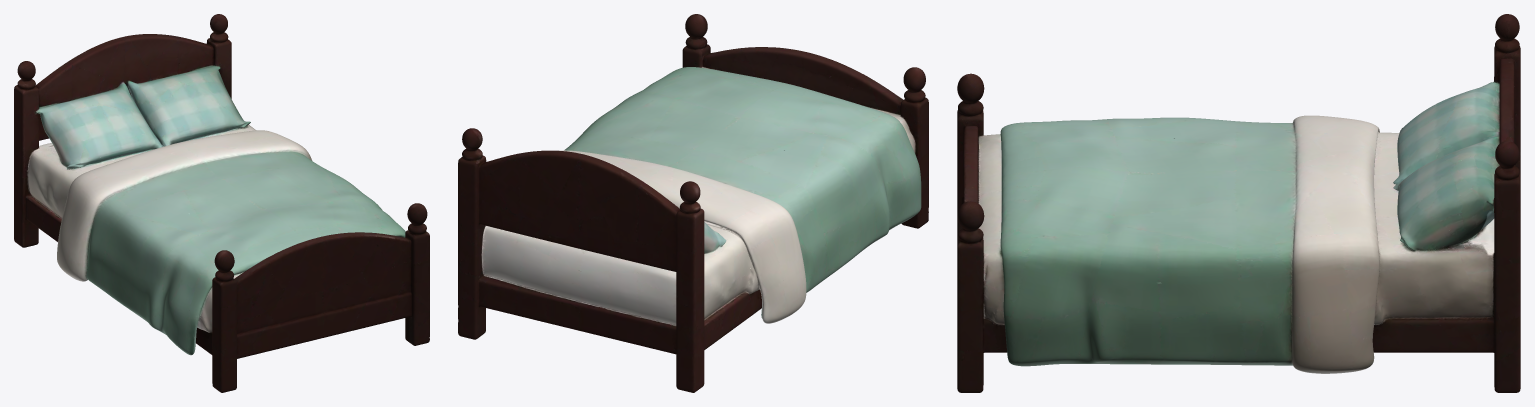
Rendered from Meshy_AI_Twin_Bed_with_Teal_Be_0227081612_texture_1.glb.
The picture shows the model from 3 angles, left to right: view 1: azimuth 30°, elevation 25°; view 2: azimuth 150°, elevation 25°; view 3: azimuth 270°, elevation 25°; orthographic projection. The views are drawn at different scales.
Parts seen in each view (by area): view 1: Mesh_0; view 2: Mesh_0; view 3: Mesh_0.
Part boxes in pixels (x1,y1,x2,y2): Mesh_0: (14,14,429,392); Mesh_0: (458,14,928,392); Mesh_0: (957,14,1520,392).
Bounding box in the file's own units: 133 × 91.62 × 190.
Materials: 1 (1 with a texture image).
